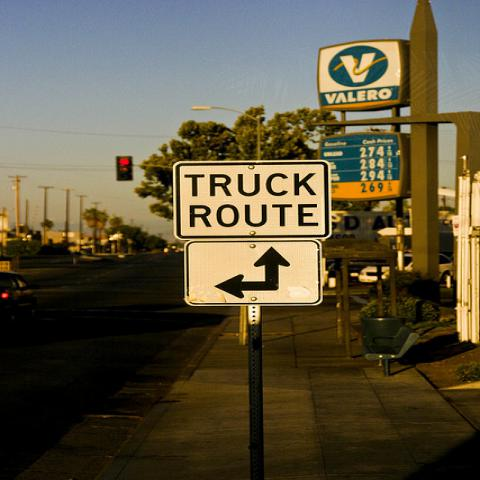car: (0, 270, 34, 317)
